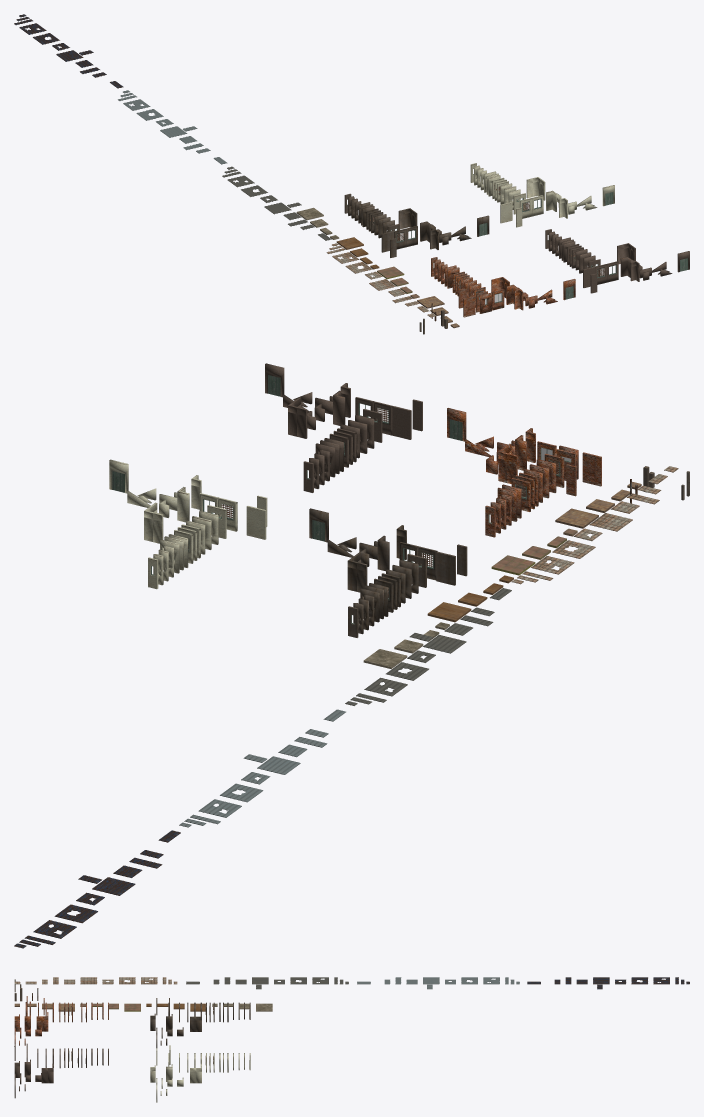
The model's file is buildings.fbx.
3 views of the same model, one above another, from view 1: azimuth 30°, elevation 25°; view 2: azimuth 150°, elevation 25°; view 3: azimuth 270°, elevation 25° (orthographic). The views are drawn at different scales.
Visible parts, largest first — view 1: no part large enough to name; view 2: no part large enough to name; view 3: wall corner 2x2.001.
Part boxes in pixels (x1,y1,x2,y2): wall corner 2x2.001: (41,1063,53,1083).
Size of the model in its own units: 4869 by 322 by 12318.
